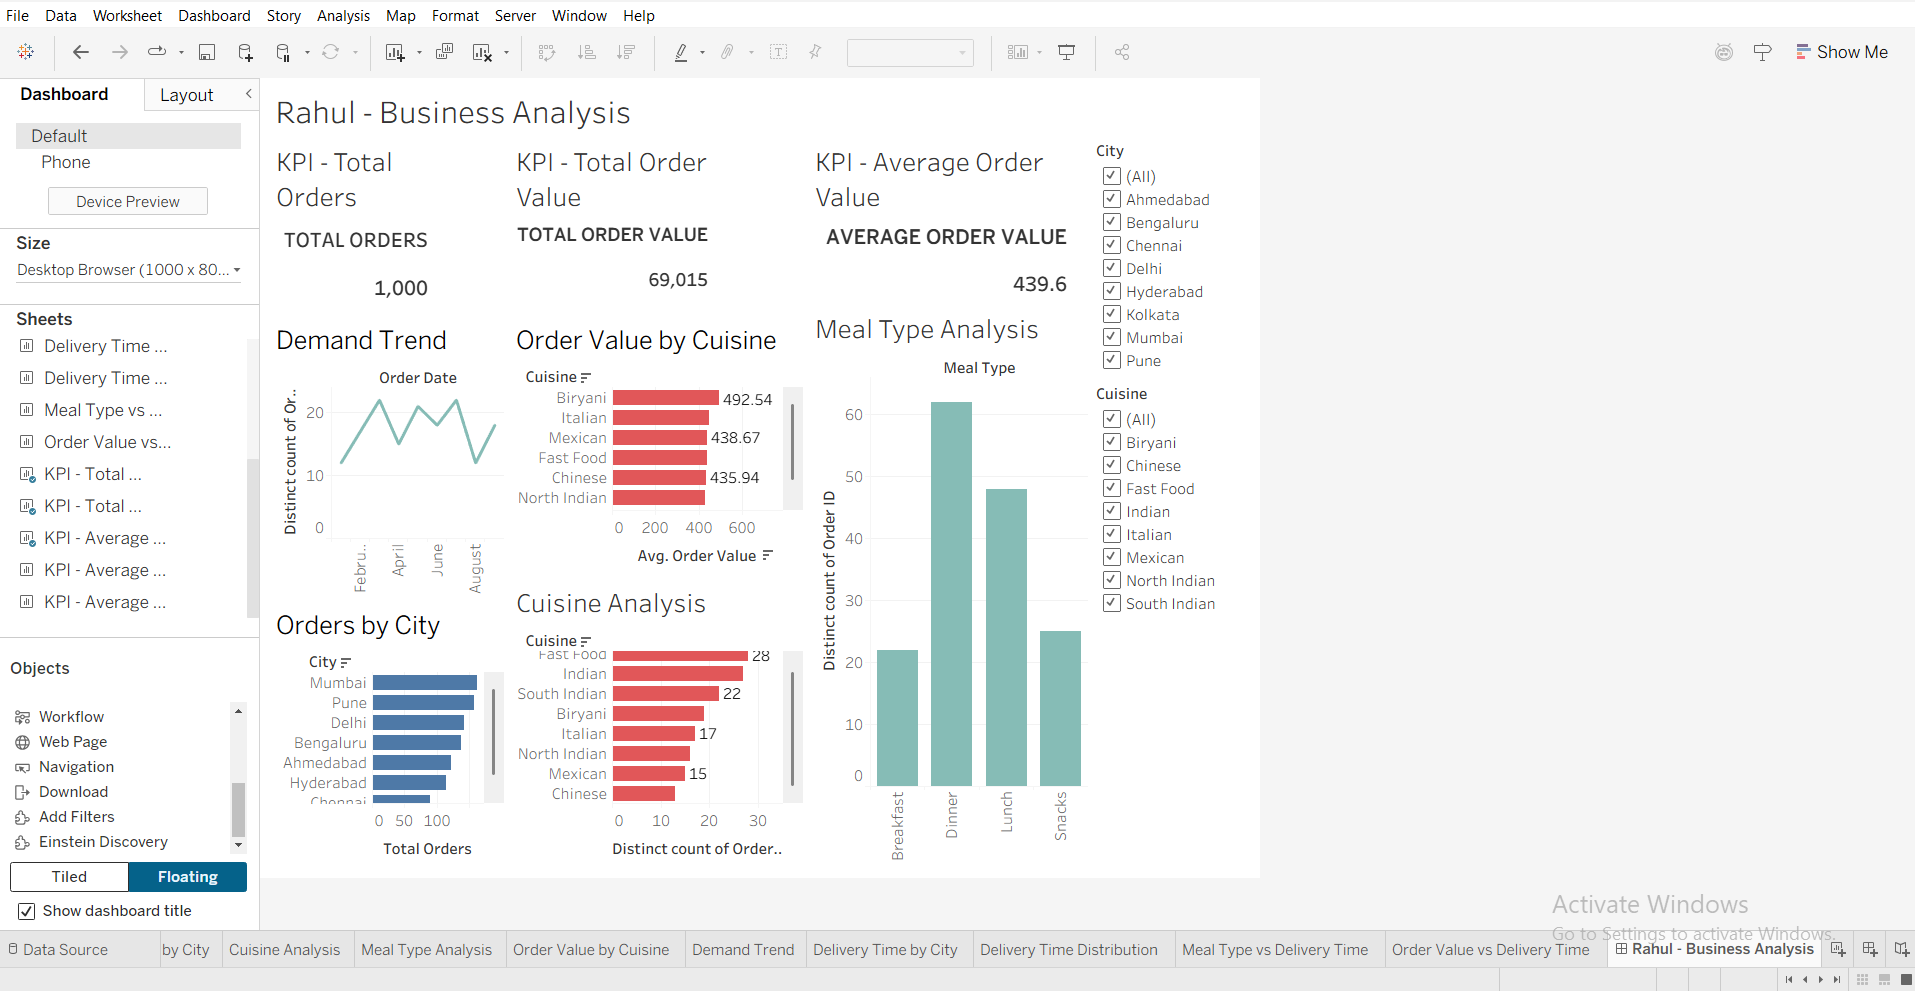

Layout of this report page (visuals, bound fields, positions):
{"tool":"tableau","page":{"name":"Rahul - Business Analysis","canvas":[1000,800],"ordinal":2},"visuals":[{"type":"title","box":[8,8,984,50]},{"type":"worksheet","title":"KPI - Total Orders","mark":"Automatic","box":[8,58,240.3,179.7]},{"type":"worksheet","title":"KPI - Total Order Value","mark":"Automatic","box":[248.3,58,298.9,180]},{"type":"worksheet","title":"KPI - Average Order Value","mark":"Automatic","box":[547.3,58,284.7,166.6]},{"type":"filter","title":"Orders by City","param":"[federated.0koscx004ilo0c1ezlsu40xq7tde].[none:City:nk]","box":[832,58,160,243]},{"type":"worksheet","title":"Meal Type Analysis","mark":"Automatic","rows":["Order ID"],"cols":["Meal Type"],"box":[547.3,224.6,284.7,567.4]},{"type":"worksheet","title":"Demand Trend","mark":"Automatic","rows":["Order ID"],"cols":["Order Date"],"box":[8,237.7,240.3,285.6]},{"type":"worksheet","title":"Order Value by Cuisine","mark":"Automatic","rows":["Cuisine"],"cols":["Order Value"],"box":[248.3,238,298.9,261]},{"type":"filter","title":"Cuisine Analysis","param":"[federated.0koscx004ilo0c1ezlsu40xq7tde].[none:Cuisine:nk]","box":[832,301,160,243]},{"type":"worksheet","title":"Cuisine Analysis","mark":"Automatic","rows":["Cuisine"],"cols":["Order ID"],"box":[248.3,499,298.9,293]},{"type":"worksheet","title":"Orders by City","mark":"Automatic","rows":["City"],"cols":["Calculation_1228207014764545"],"box":[8,523.3,240.3,268.7]}]}

Visuals, with their boxes on the page's 1000x800 design canvas (x1, y1, x2, y2). These are canvas units, not pixel positions in the 1915x991 screenshot, which may show the page scaled, cropped or inside an application window:
title: x1=8, y1=8, x2=992, y2=58
"KPI - Total Orders" worksheet: x1=8, y1=58, x2=248, y2=238
"KPI - Total Order Value" worksheet: x1=248, y1=58, x2=547, y2=238
"KPI - Average Order Value" worksheet: x1=547, y1=58, x2=832, y2=225
"Orders by City" filter: x1=832, y1=58, x2=992, y2=301
"Meal Type Analysis" worksheet: x1=547, y1=225, x2=832, y2=792
"Demand Trend" worksheet: x1=8, y1=238, x2=248, y2=523
"Order Value by Cuisine" worksheet: x1=248, y1=238, x2=547, y2=499
"Cuisine Analysis" filter: x1=832, y1=301, x2=992, y2=544
"Cuisine Analysis" worksheet: x1=248, y1=499, x2=547, y2=792
"Orders by City" worksheet: x1=8, y1=523, x2=248, y2=792
